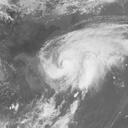cyclone: (38, 26, 104, 90)
